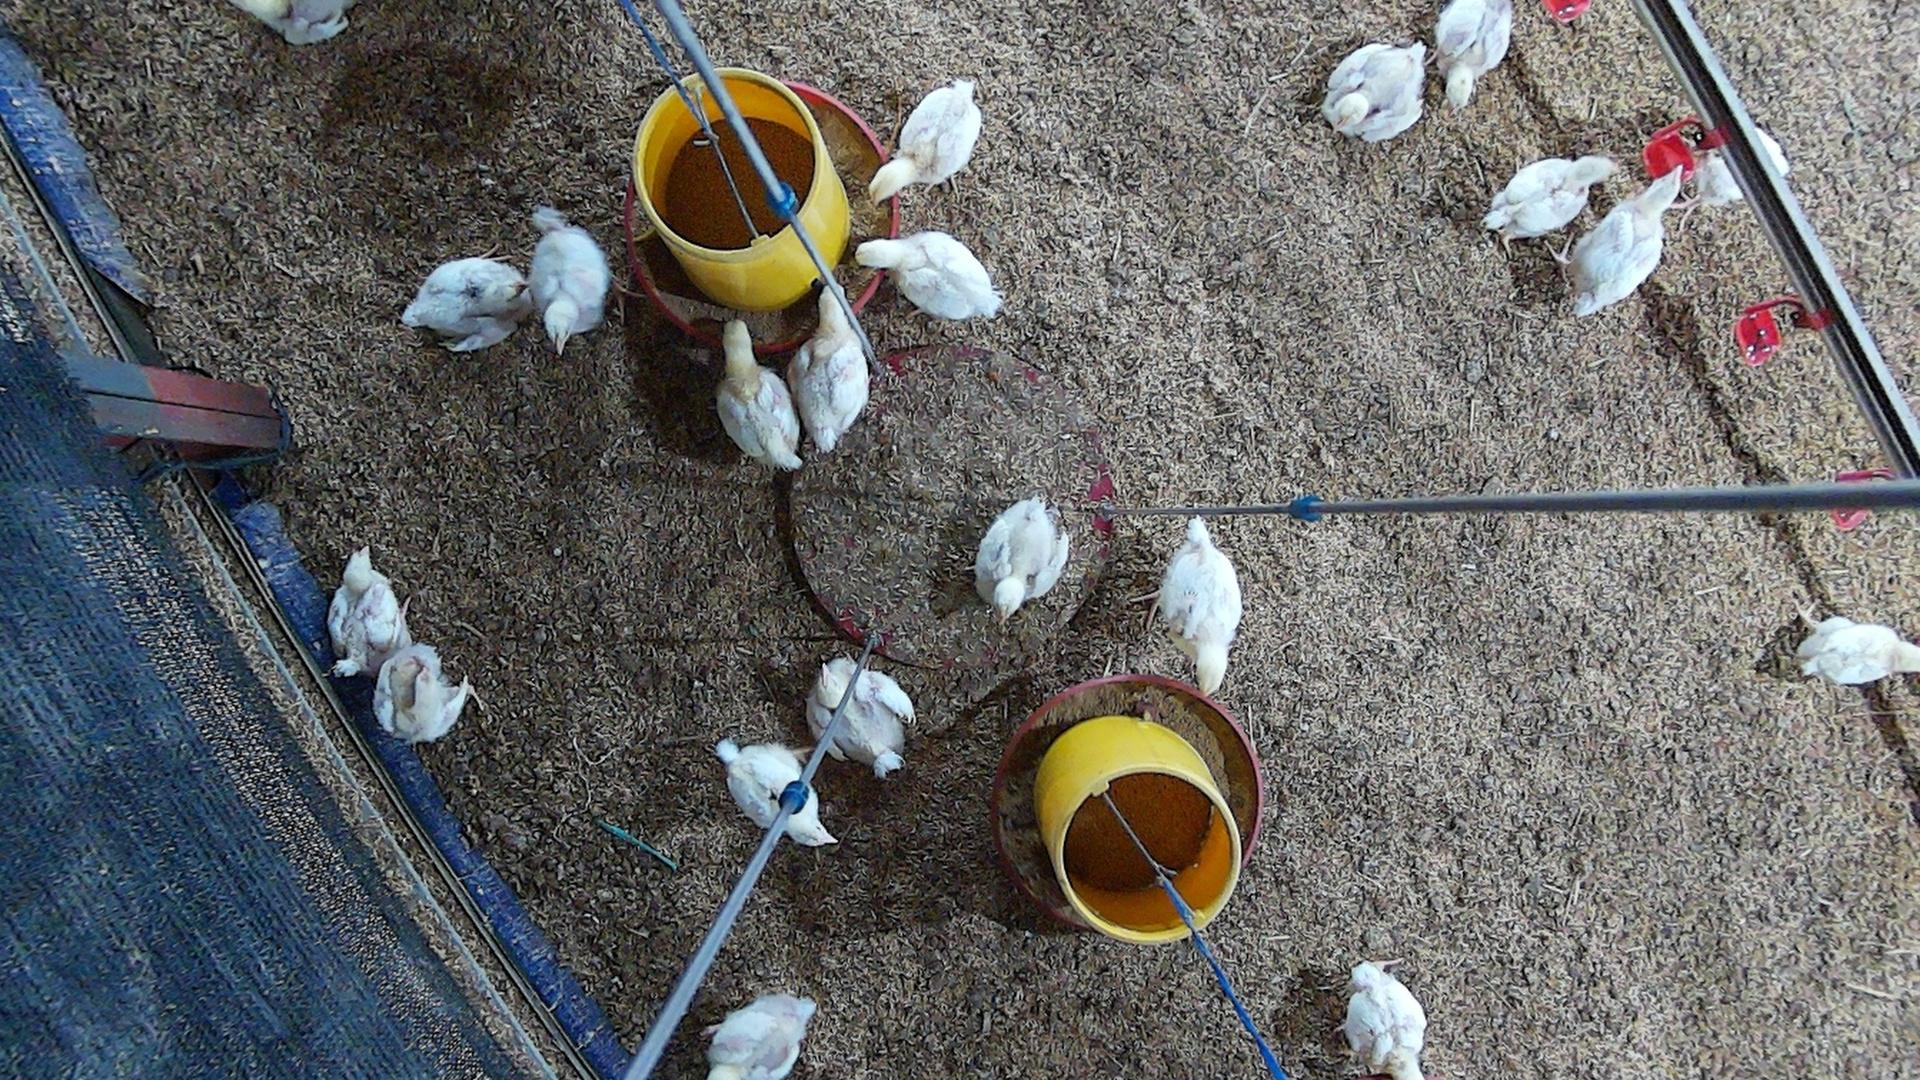ayam_broiler: (1572, 167, 1681, 314), (1159, 518, 1241, 698), (791, 272, 869, 454), (869, 82, 981, 203), (716, 319, 802, 473), (853, 232, 1002, 320), (810, 658, 913, 778), (717, 738, 828, 843), (527, 211, 609, 352), (1482, 157, 1619, 240), (975, 498, 1069, 617), (404, 258, 524, 347), (1323, 41, 1425, 142), (705, 990, 816, 1080), (373, 642, 468, 744), (1345, 963, 1427, 1080), (330, 549, 405, 675), (1437, 0, 1514, 109), (1796, 620, 1920, 687)
